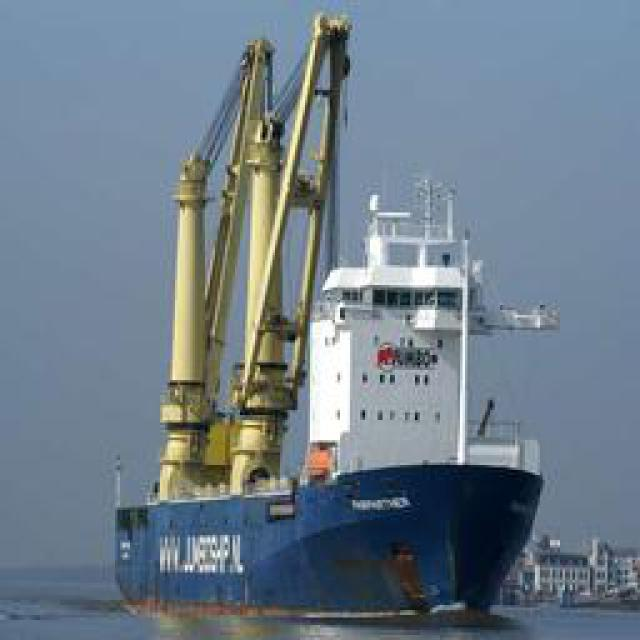Ship: (113, 7, 558, 630)
